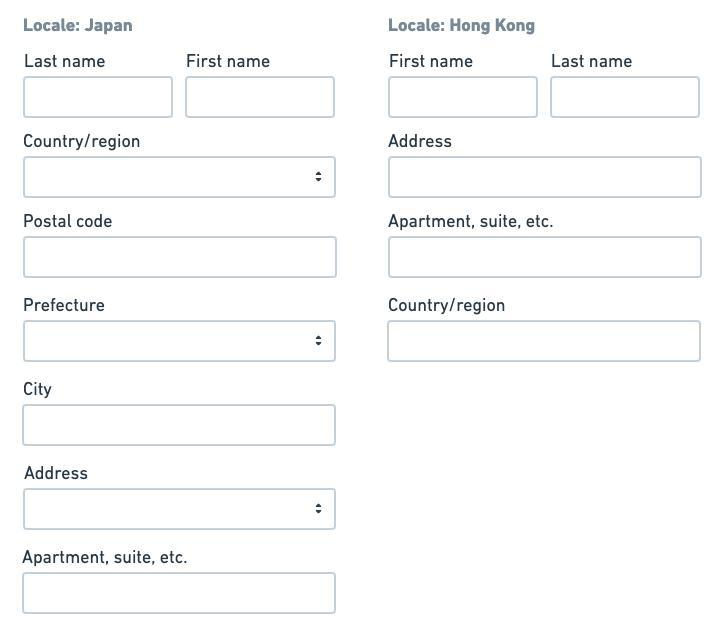dropdown: (24, 157, 337, 198), (25, 490, 337, 530), (24, 323, 337, 362)
input: (388, 322, 701, 364), (390, 157, 702, 198), (389, 238, 703, 278), (24, 575, 336, 615), (25, 239, 338, 278), (24, 407, 336, 446), (24, 77, 174, 117), (551, 78, 701, 118), (188, 78, 336, 118), (390, 79, 539, 118)
label: (383, 12, 537, 39), (386, 212, 557, 233), (18, 13, 138, 37), (21, 550, 190, 566), (24, 131, 141, 151), (387, 298, 513, 315), (187, 52, 275, 72), (23, 52, 109, 72), (24, 212, 114, 231), (549, 52, 637, 71), (388, 129, 457, 152), (389, 55, 479, 72), (23, 297, 106, 313), (25, 466, 90, 483), (23, 381, 53, 399)
